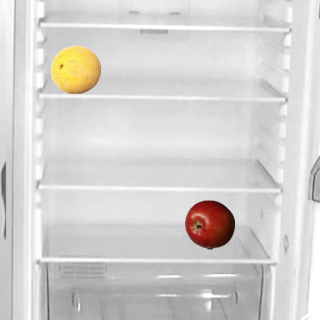Apple Braeburn: (184, 199, 234, 249)
Cantaloupe 1: (50, 44, 100, 94)
